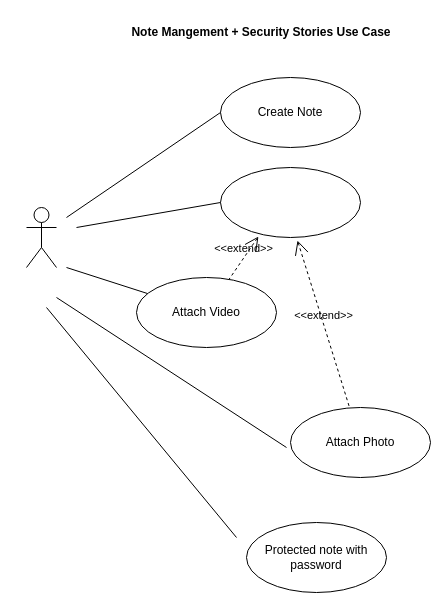
Some shapes in this 448 by 610 pixel diagram are drawn without their labels. The centre of each missing label's shape, as x and y in pixels:
"App user" goes at pixel 41 237.
"Edit Note" goes at pixel 290 202.
